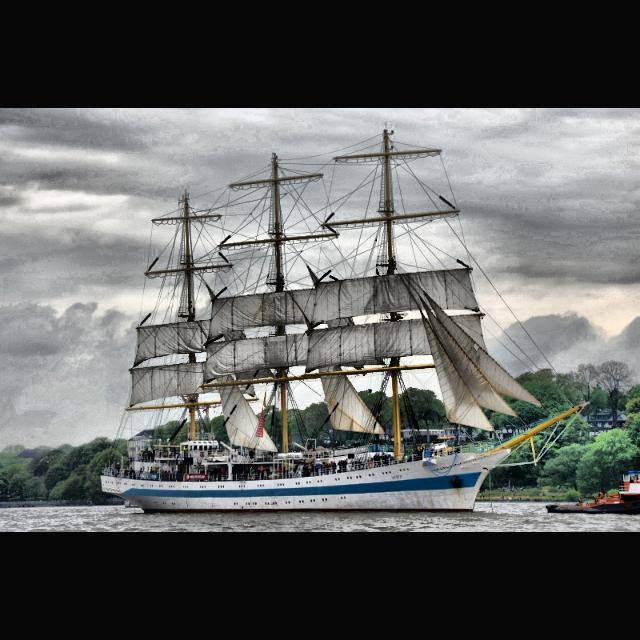sailing_vessel: (100, 128, 590, 514)
